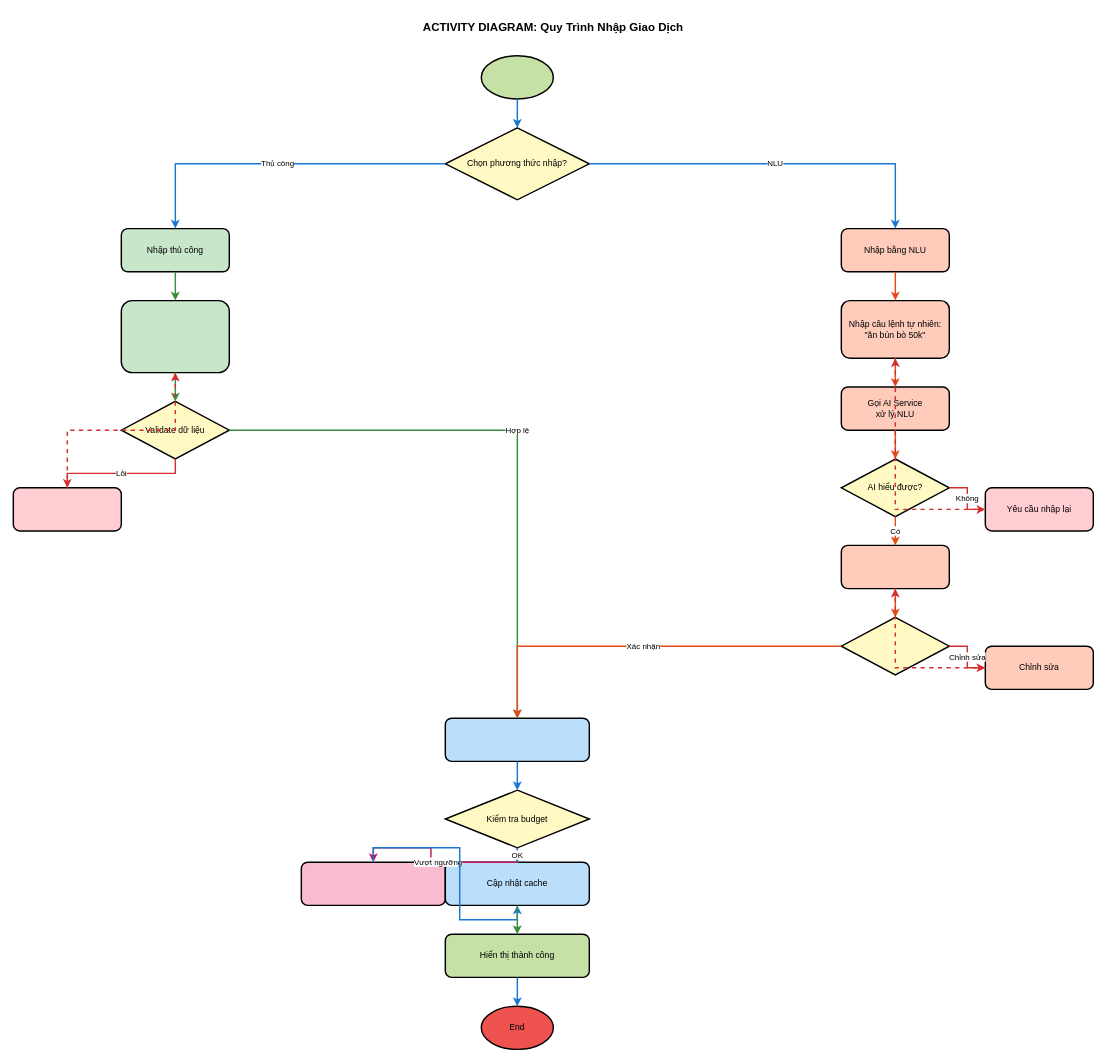
This 1106x1062 diagram has some shape labels left out. The shapes that lost their labels are listed below. From the top down, each one's centre as x and y in pixels, then its label:
At (517,77): "Start".
At (175,336): "Điền form: - Loại giao dịch - Category - Số tiền - Mô tả - Ngày".
At (67,509): "Hiển thị lỗi".
At (895,566): "Hiển thị preview cho user xác nhận".
At (895,645): "User xác nhận?".
At (517,739): "Tạo transaction trong database".
At (373,883): "Tạo notification nếu vượt budget".
